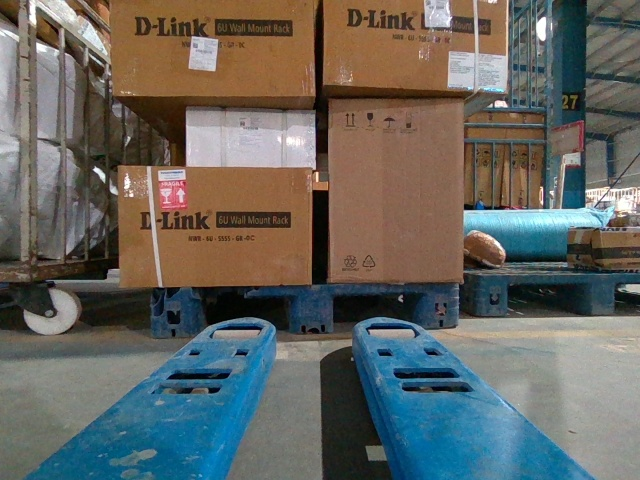block: (151, 286, 197, 342), (291, 282, 332, 337), (422, 284, 457, 329), (474, 273, 507, 319), (588, 276, 615, 316)
front: (154, 283, 459, 337)
hole pallet: (329, 288, 424, 334), (195, 289, 296, 330), (504, 278, 593, 311)
